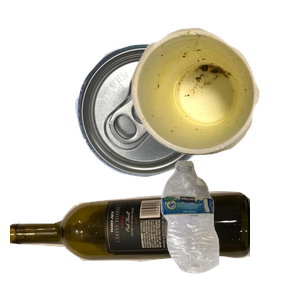glass: (10, 189, 250, 300)
metal: (73, 42, 277, 212)
plastic: (159, 158, 300, 300)
trash: (129, 25, 300, 173)
